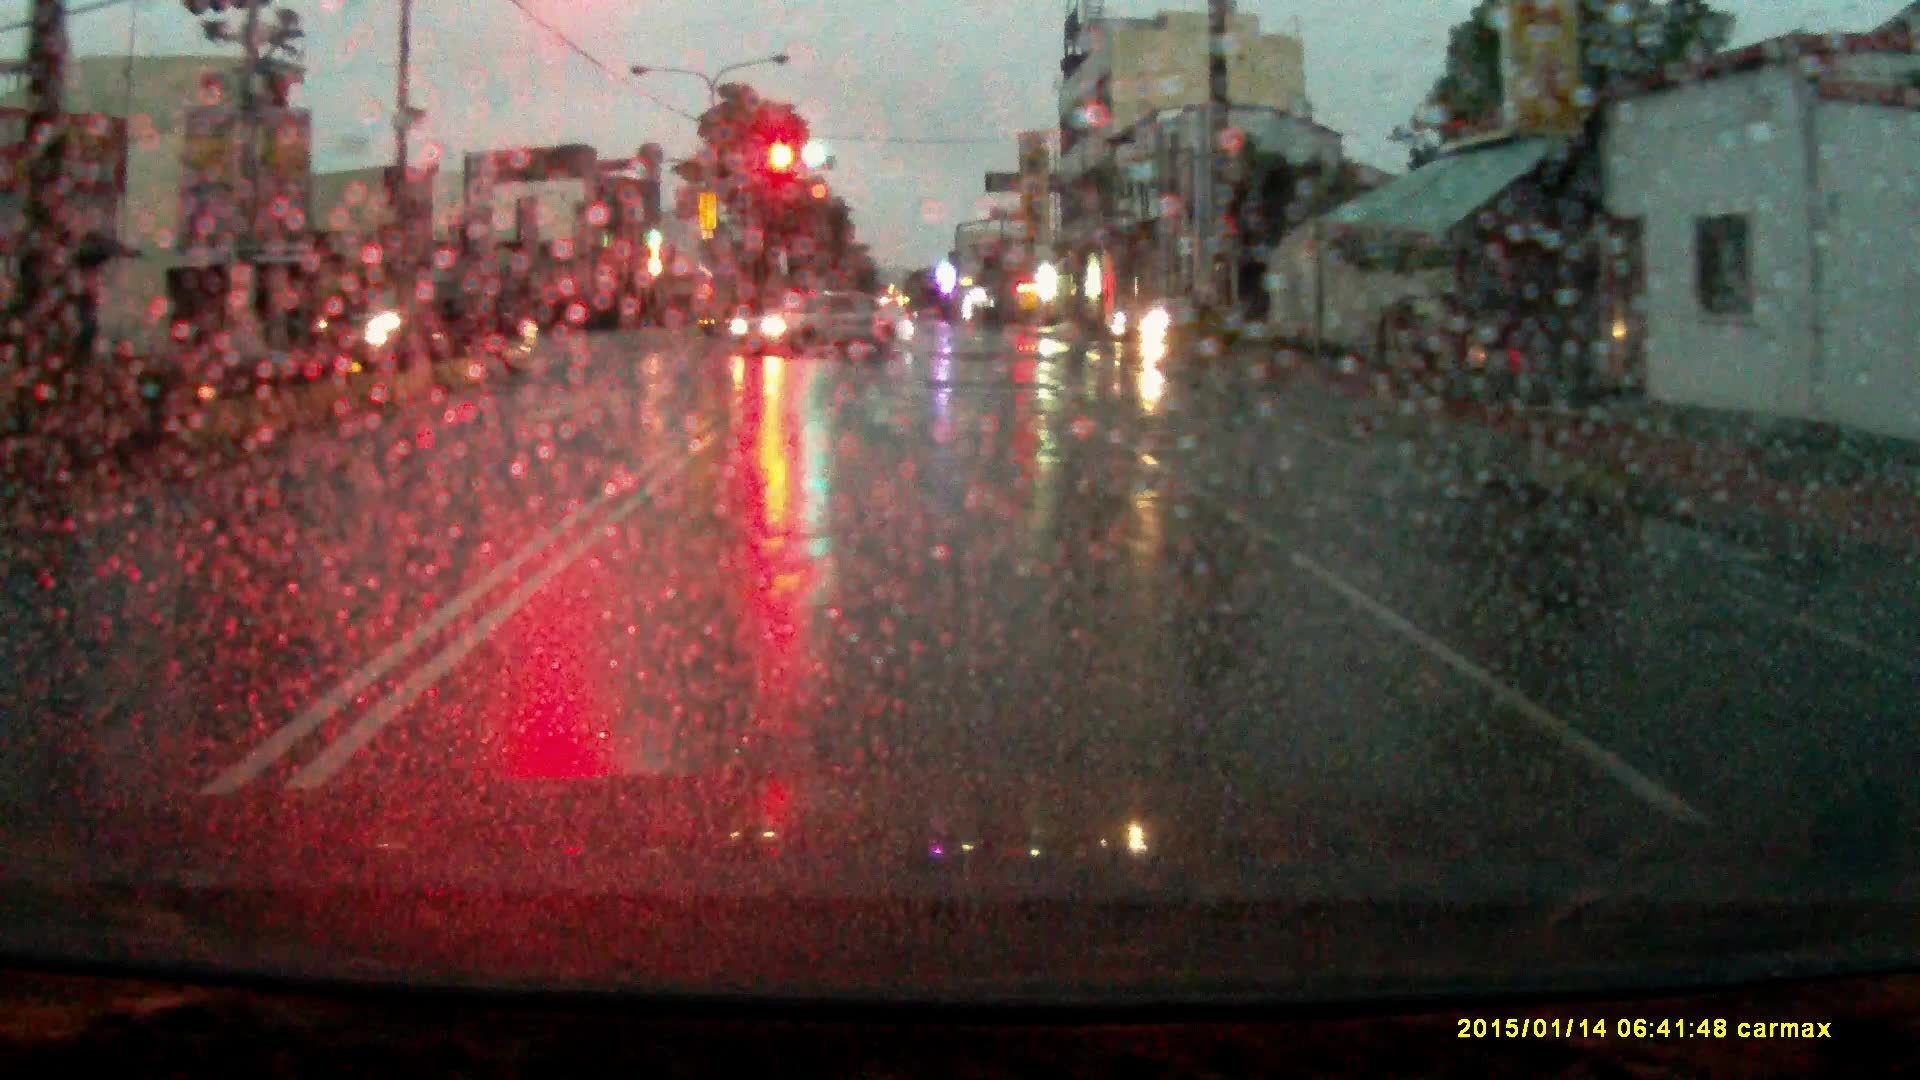vehicle: (305, 274, 542, 377), (727, 291, 916, 363), (1109, 291, 1255, 343)
